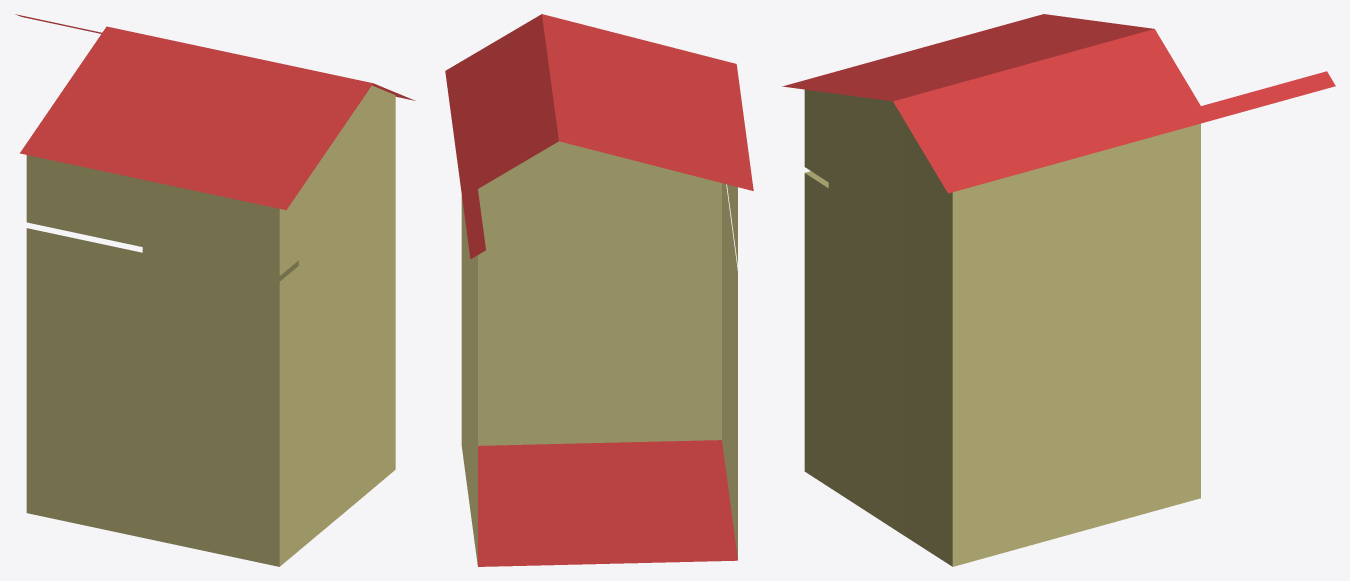
3 views of the same model, side by side, from view 1: azimuth 30°, elevation 25°; view 2: azimuth 150°, elevation 25°; view 3: azimuth 270°, elevation 25° (orthographic). The views are drawn at different scales.
Bounding box in the file's own units: 6.52 × 8.5 × 7.44.
